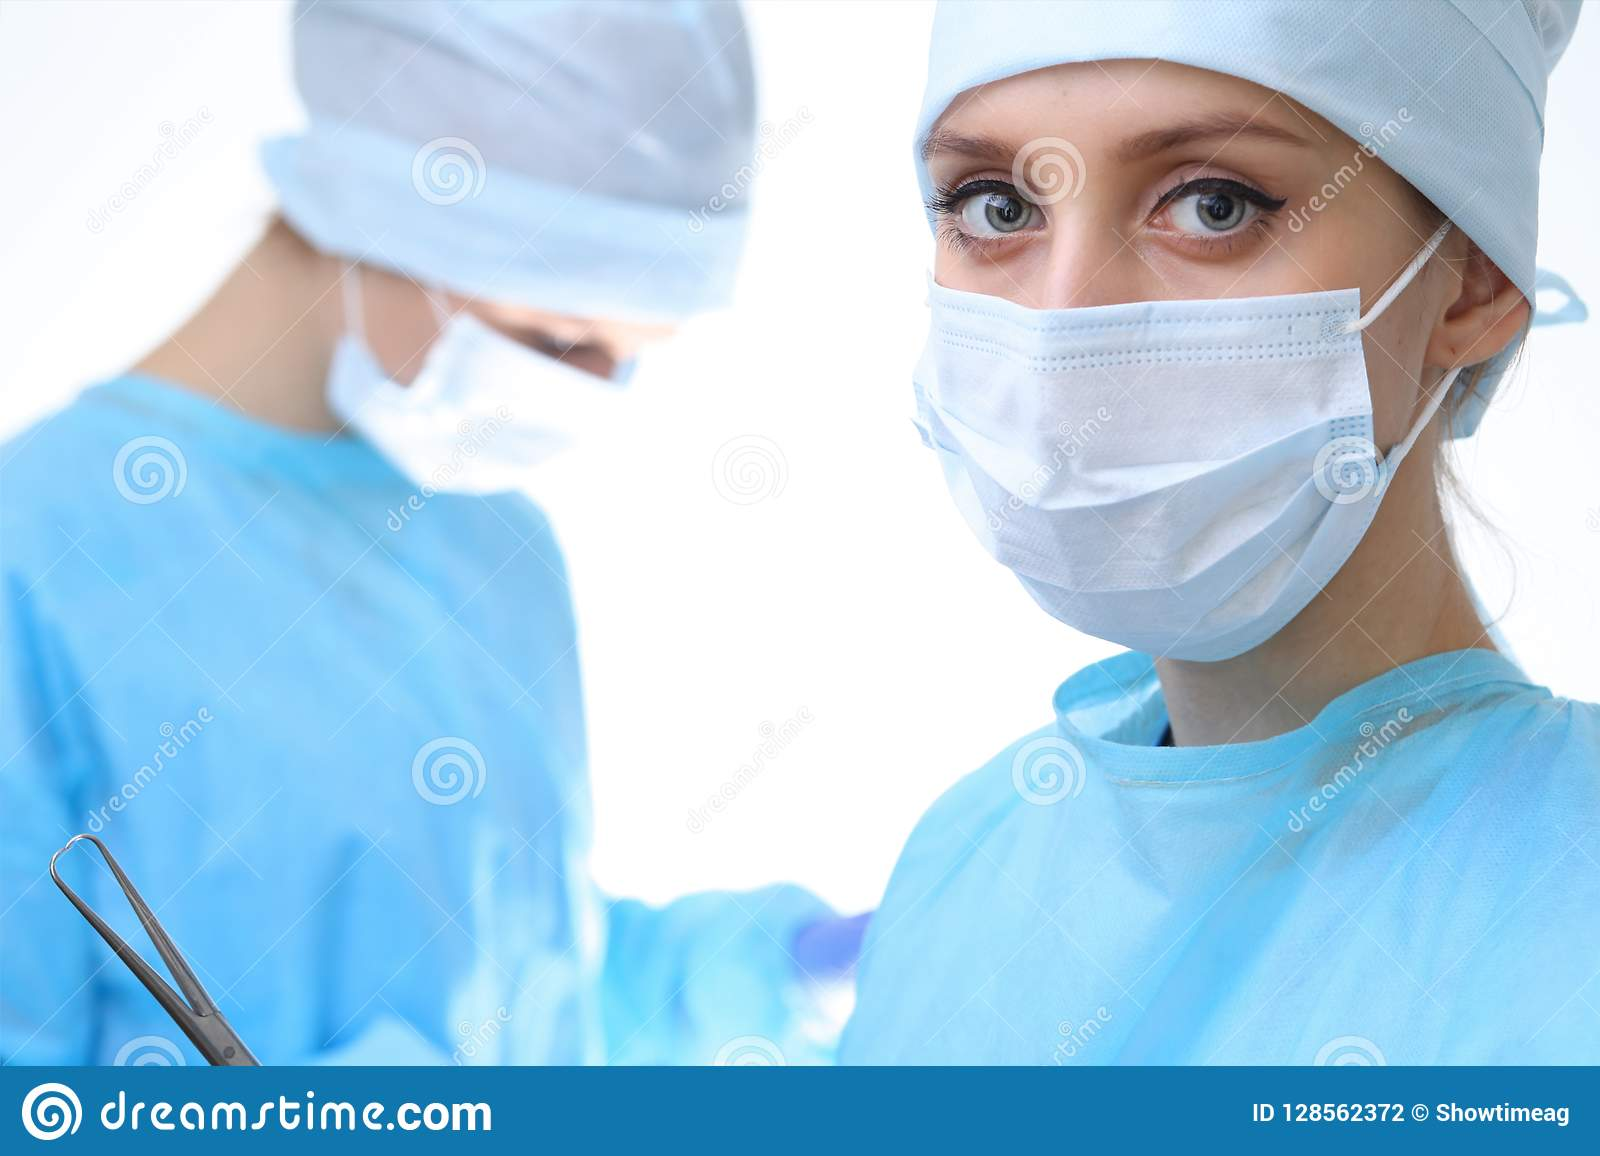mask: (891, 314, 1402, 602)
